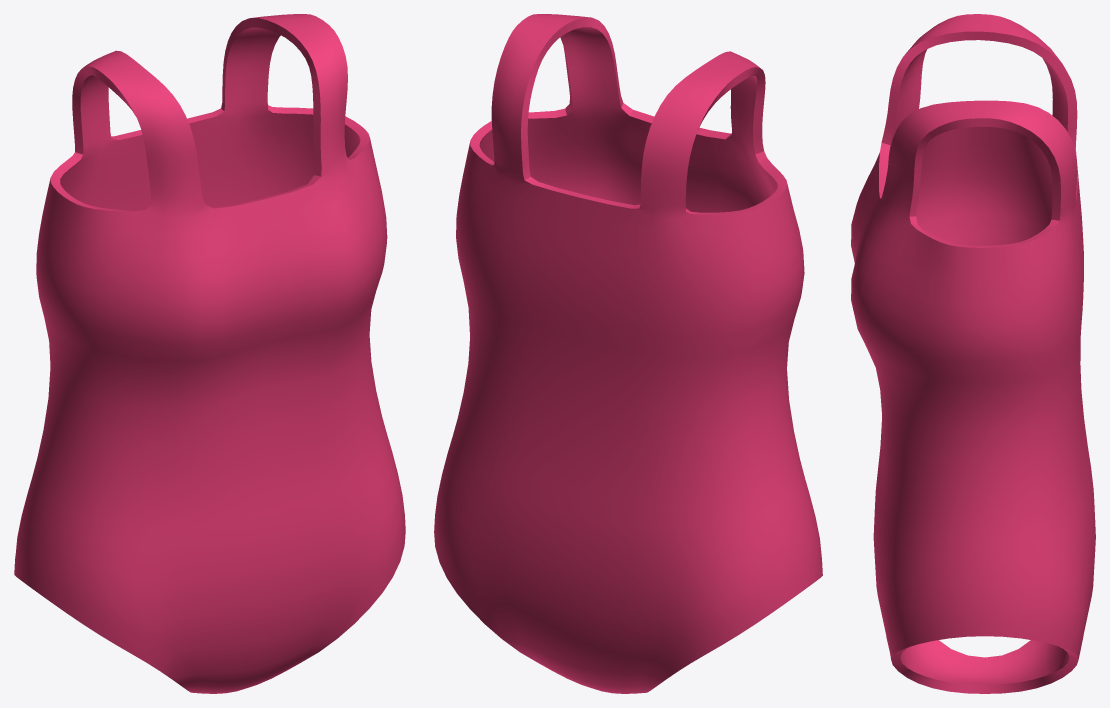
Rendered from one_piece_swimsuit.glb.
3 renders of one model, left to right at view 1: azimuth 30°, elevation 25°; view 2: azimuth 150°, elevation 25°; view 3: azimuth 270°, elevation 25°, orthographic. The views are drawn at different scales.
Parts seen in each view (by area): view 1: One-Piece Swimsuit; view 2: One-Piece Swimsuit; view 3: One-Piece Swimsuit.
Boxes of the visible parts, x1,y1,x2,y2 form: One-Piece Swimsuit: (14,14,405,693); One-Piece Swimsuit: (434,14,822,693); One-Piece Swimsuit: (851,14,1095,693).
Bounding box in the file's own units: 1.28 × 2.16 × 0.775.
1 material, 1 textured.
